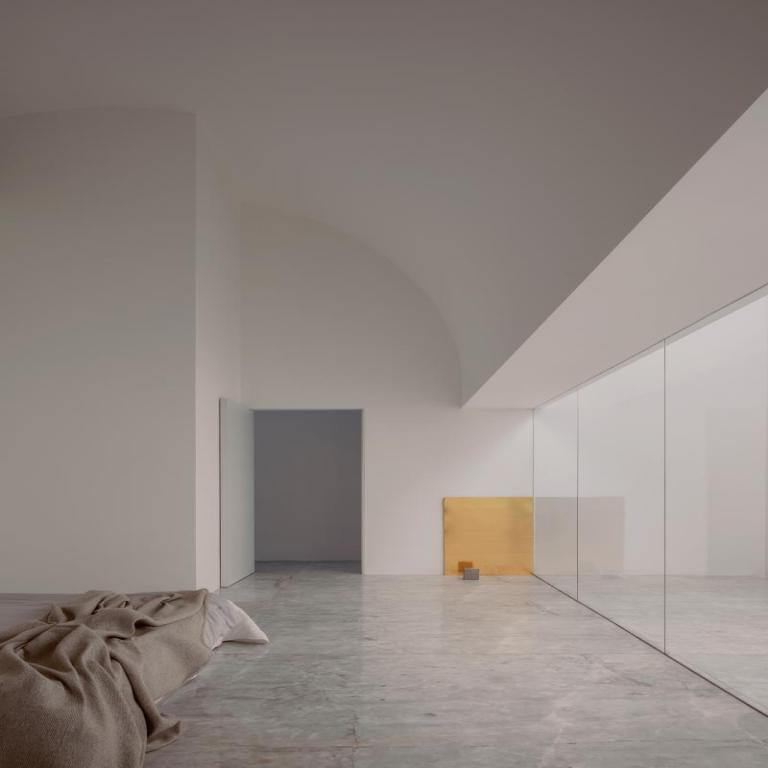white-walls: (27, 273, 418, 569)
